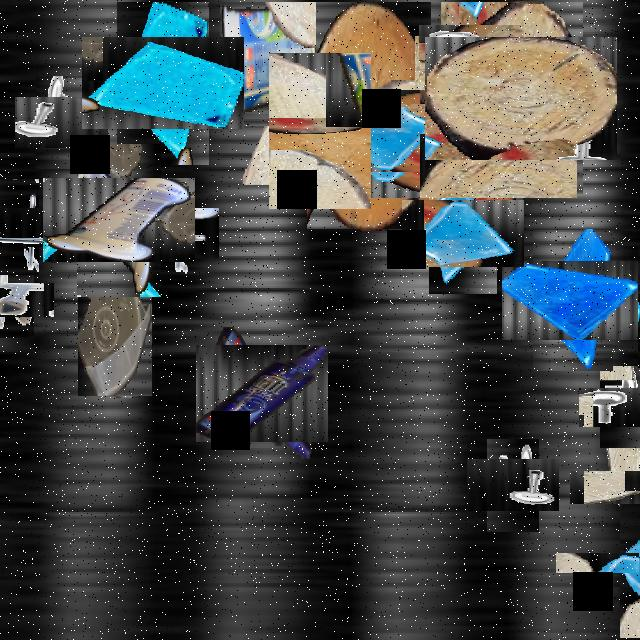glass: (99, 20, 227, 147), (518, 245, 628, 356), (416, 186, 510, 280), (587, 521, 640, 605), (638, 247, 640, 368)
metal: (430, 13, 512, 97), (477, 449, 549, 522), (26, 86, 98, 159), (139, 198, 209, 268), (0, 193, 53, 261), (589, 376, 640, 437), (0, 273, 44, 327)
plastic: (60, 161, 178, 280), (204, 336, 320, 450), (220, 2, 316, 126), (78, 240, 152, 396)
wood: (307, 2, 431, 229), (388, 63, 550, 225), (442, 19, 600, 177), (255, 67, 385, 196), (588, 451, 640, 522)
